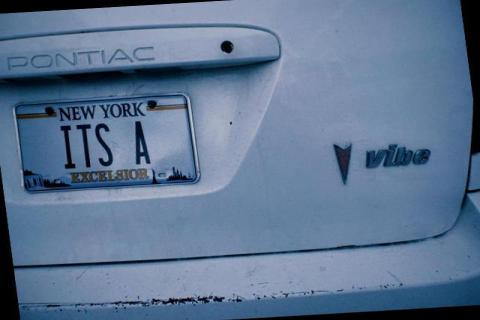LicensePlate: (9, 90, 199, 194)
